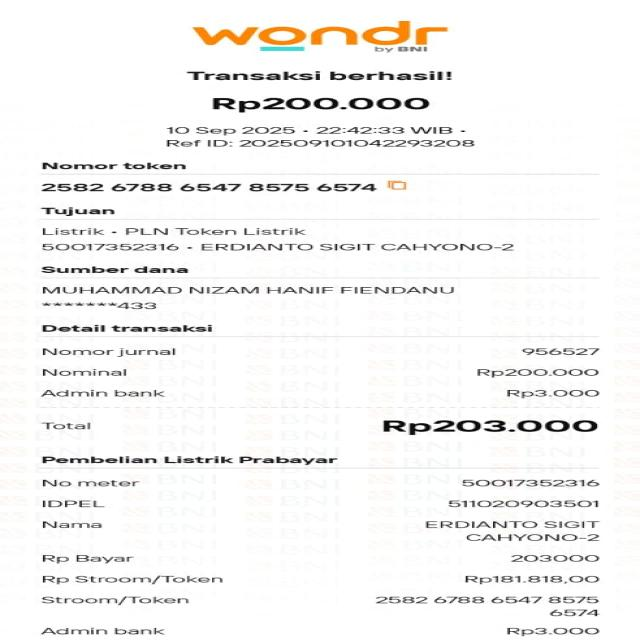date: (159, 124, 475, 139)
store: (169, 19, 491, 61)
total: (36, 416, 615, 438)
